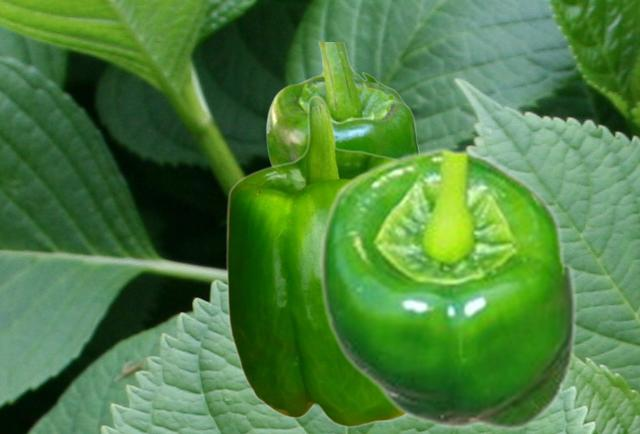bell_pepper: (317, 146, 577, 430), (225, 95, 404, 427), (265, 42, 419, 164)
